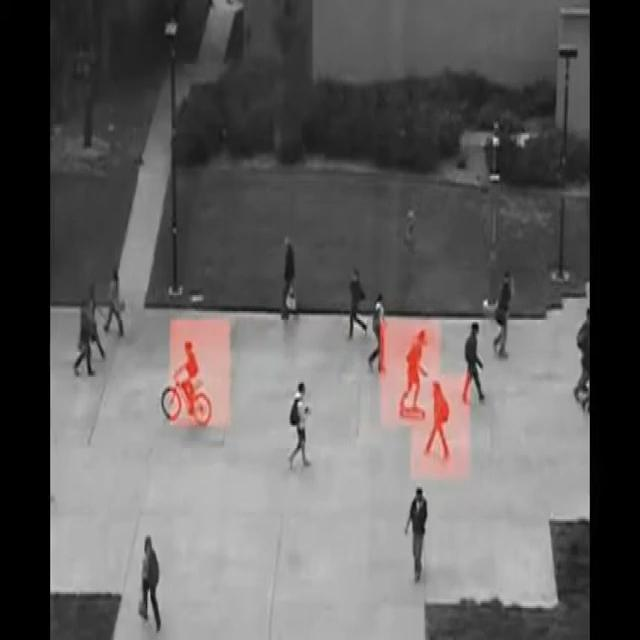anamoly: (158, 334, 218, 434), (396, 322, 439, 436)
